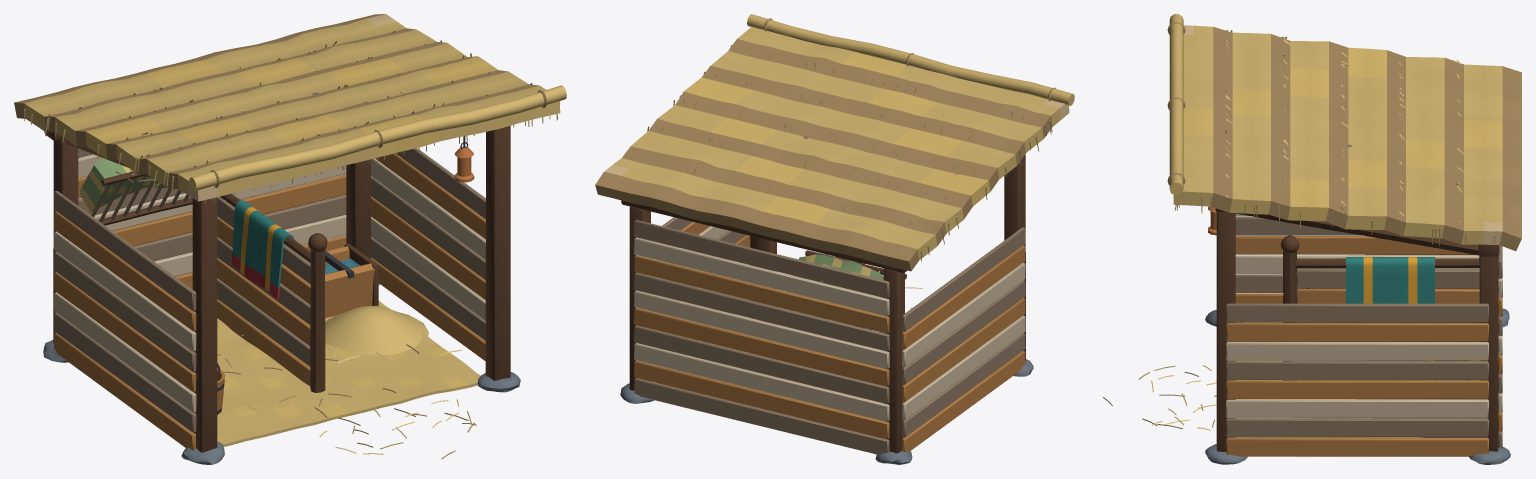
File: deco_stable_stall.fbx
The picture shows the model from 3 angles, left to right: view 1: azimuth 30°, elevation 25°; view 2: azimuth 150°, elevation 25°; view 3: azimuth 270°, elevation 25°; orthographic projection. The views are drawn at different scales.
Parts seen in each view (by area): view 1: StableStall_Frame, StableStall_Roof, StableStall_Bedding, StableStall_Divider, StableStall_HayRack, StableStall_Trough, StableStall_Lantern; view 2: StableStall_Frame, StableStall_Roof, StableStall_HayRack; view 3: StableStall_Roof, StableStall_Frame, StableStall_Divider, StableStall_Bedding.
Part boxes in pixels (x1=…): StableStall_Frame: x1=43, y1=92, x2=520, y2=464; StableStall_Roof: x1=14, y1=14, x2=566, y2=204; StableStall_Bedding: x1=217, y1=301, x2=480, y2=458; StableStall_Divider: x1=217, y1=193, x2=327, y2=392; StableStall_HayRack: x1=79, y1=158, x2=192, y2=225; StableStall_Trough: x1=325, y1=243, x2=378, y2=317; StableStall_Lantern: x1=454, y1=136, x2=474, y2=182; StableStall_Frame: x1=620, y1=136, x2=1033, y2=464; StableStall_Roof: x1=595, y1=14, x2=1074, y2=271; StableStall_HayRack: x1=793, y1=250, x2=906, y2=332; StableStall_Roof: x1=1167, y1=14, x2=1521, y2=251; StableStall_Frame: x1=1205, y1=65, x2=1510, y2=464; StableStall_Divider: x1=1280, y1=235, x2=1479, y2=380; StableStall_Bedding: x1=1103, y1=322, x2=1422, y2=437.
Bounding box in the file's own units: 432 × 344 × 446.
